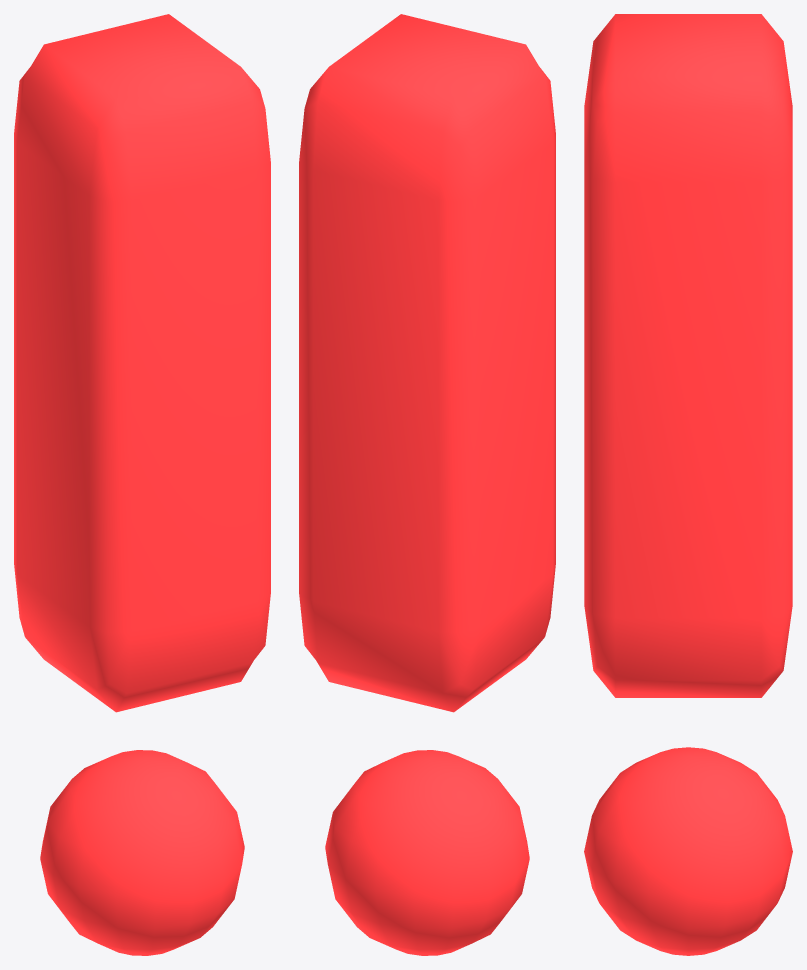
Rendered from delivery-end-marker.dae.
The picture shows the model from 3 angles, left to right: view 1: azimuth 30°, elevation 25°; view 2: azimuth 150°, elevation 25°; view 3: azimuth 270°, elevation 25°; orthographic projection.
Parts seen in each view (by area): view 1: EndMarkerTop, EndMarkerBottom; view 2: EndMarkerTop, EndMarkerBottom; view 3: EndMarkerTop, EndMarkerBottom.
Boxes of the visible parts, x1,y1,x2,y2 form: EndMarkerTop: (14,14,270,712); EndMarkerBottom: (40,750,244,955); EndMarkerTop: (299,14,555,712); EndMarkerBottom: (325,750,529,955); EndMarkerTop: (584,14,792,697); EndMarkerBottom: (584,747,792,955).
Bounding box in the file's own units: 0.4 × 0.4 × 1.9.
